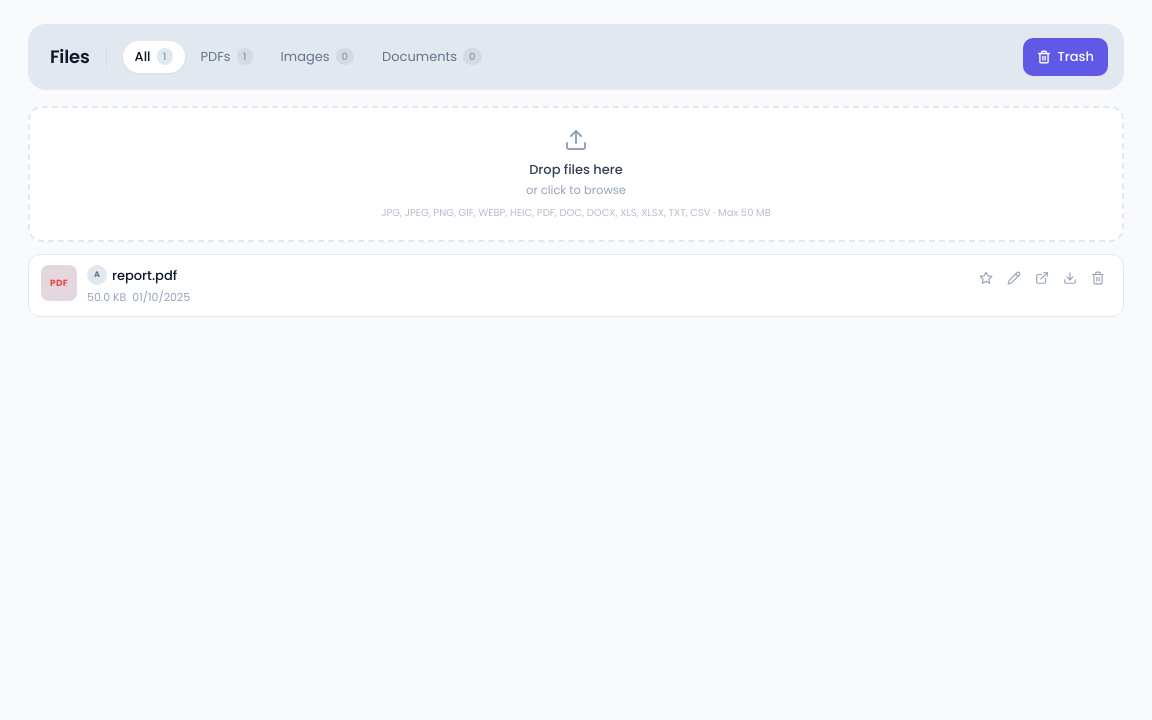
FileManager › FE-COMP-FILEMANAGER-020: assign modal shows places list
Click the button titled "assign". click: (1014, 278)
box: [1001,265,1027,291]
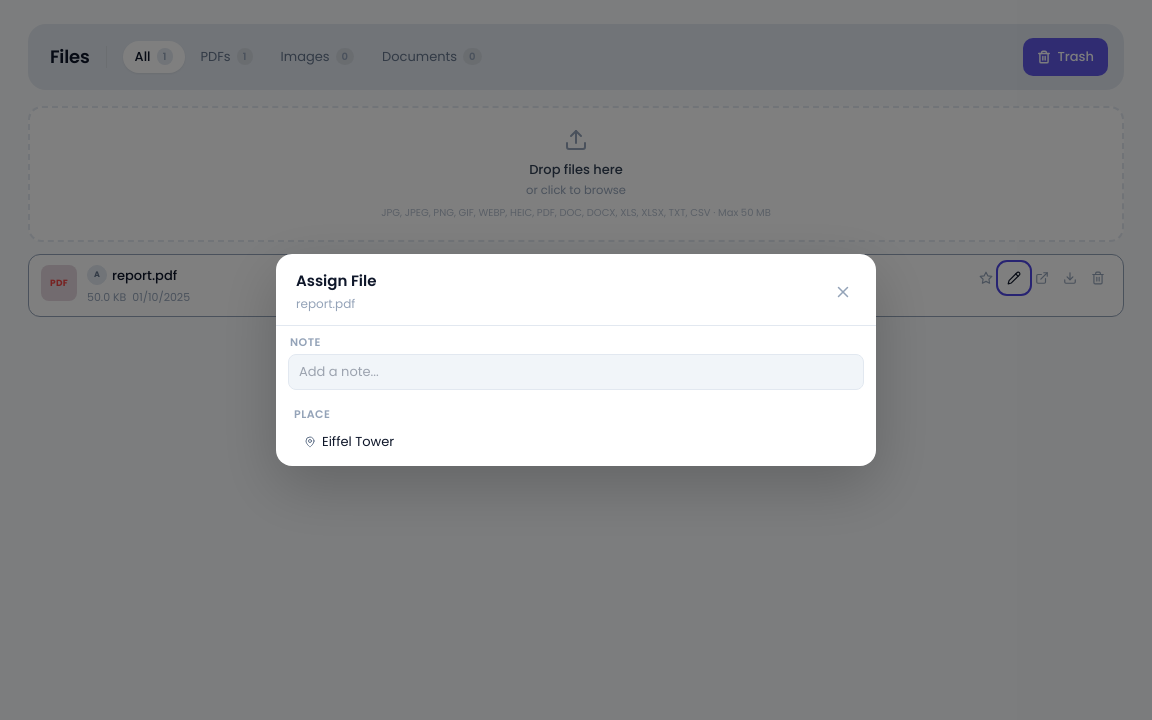
Expected: the text "Eiffel Tower" is shown, [322,432,394,452]
